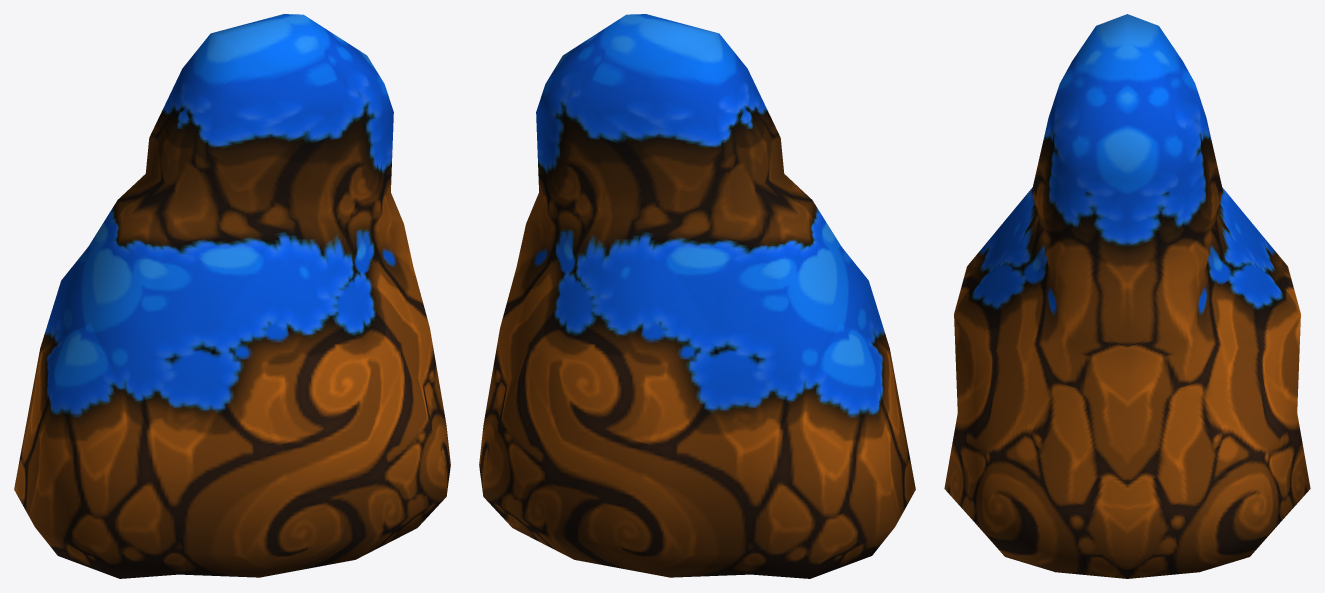
Rendered from Blue_Rock_03.FBX.
3 views of the same model, side by side, from view 1: azimuth 30°, elevation 25°; view 2: azimuth 150°, elevation 25°; view 3: azimuth 270°, elevation 25° (orthographic).
Parts seen in each view (by area): view 1: Blue_Rock_03; view 2: Blue_Rock_03; view 3: Blue_Rock_03.
Part boxes in pixels (left/top/right/bottom): Blue_Rock_03: left=14, top=14, right=450, bottom=578; Blue_Rock_03: left=479, top=14, right=915, bottom=578; Blue_Rock_03: left=944, top=14, right=1310, bottom=578.
Size of the model in its own units: 340 by 402 by 278.
